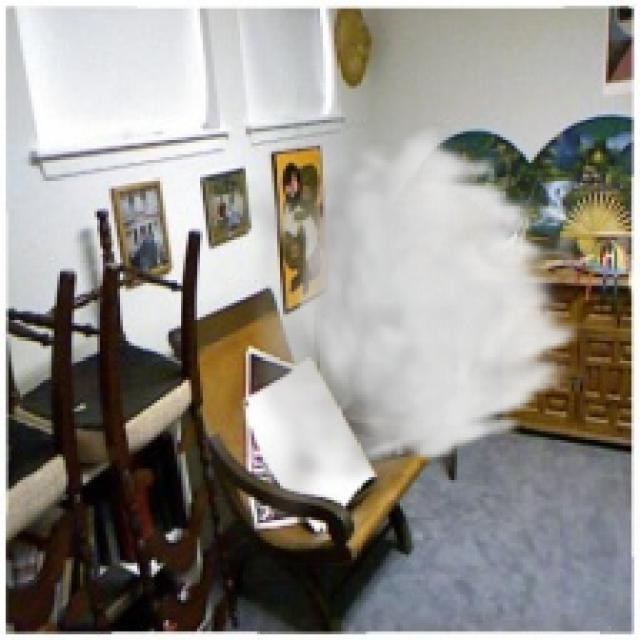smoke: (226, 123, 588, 534)
